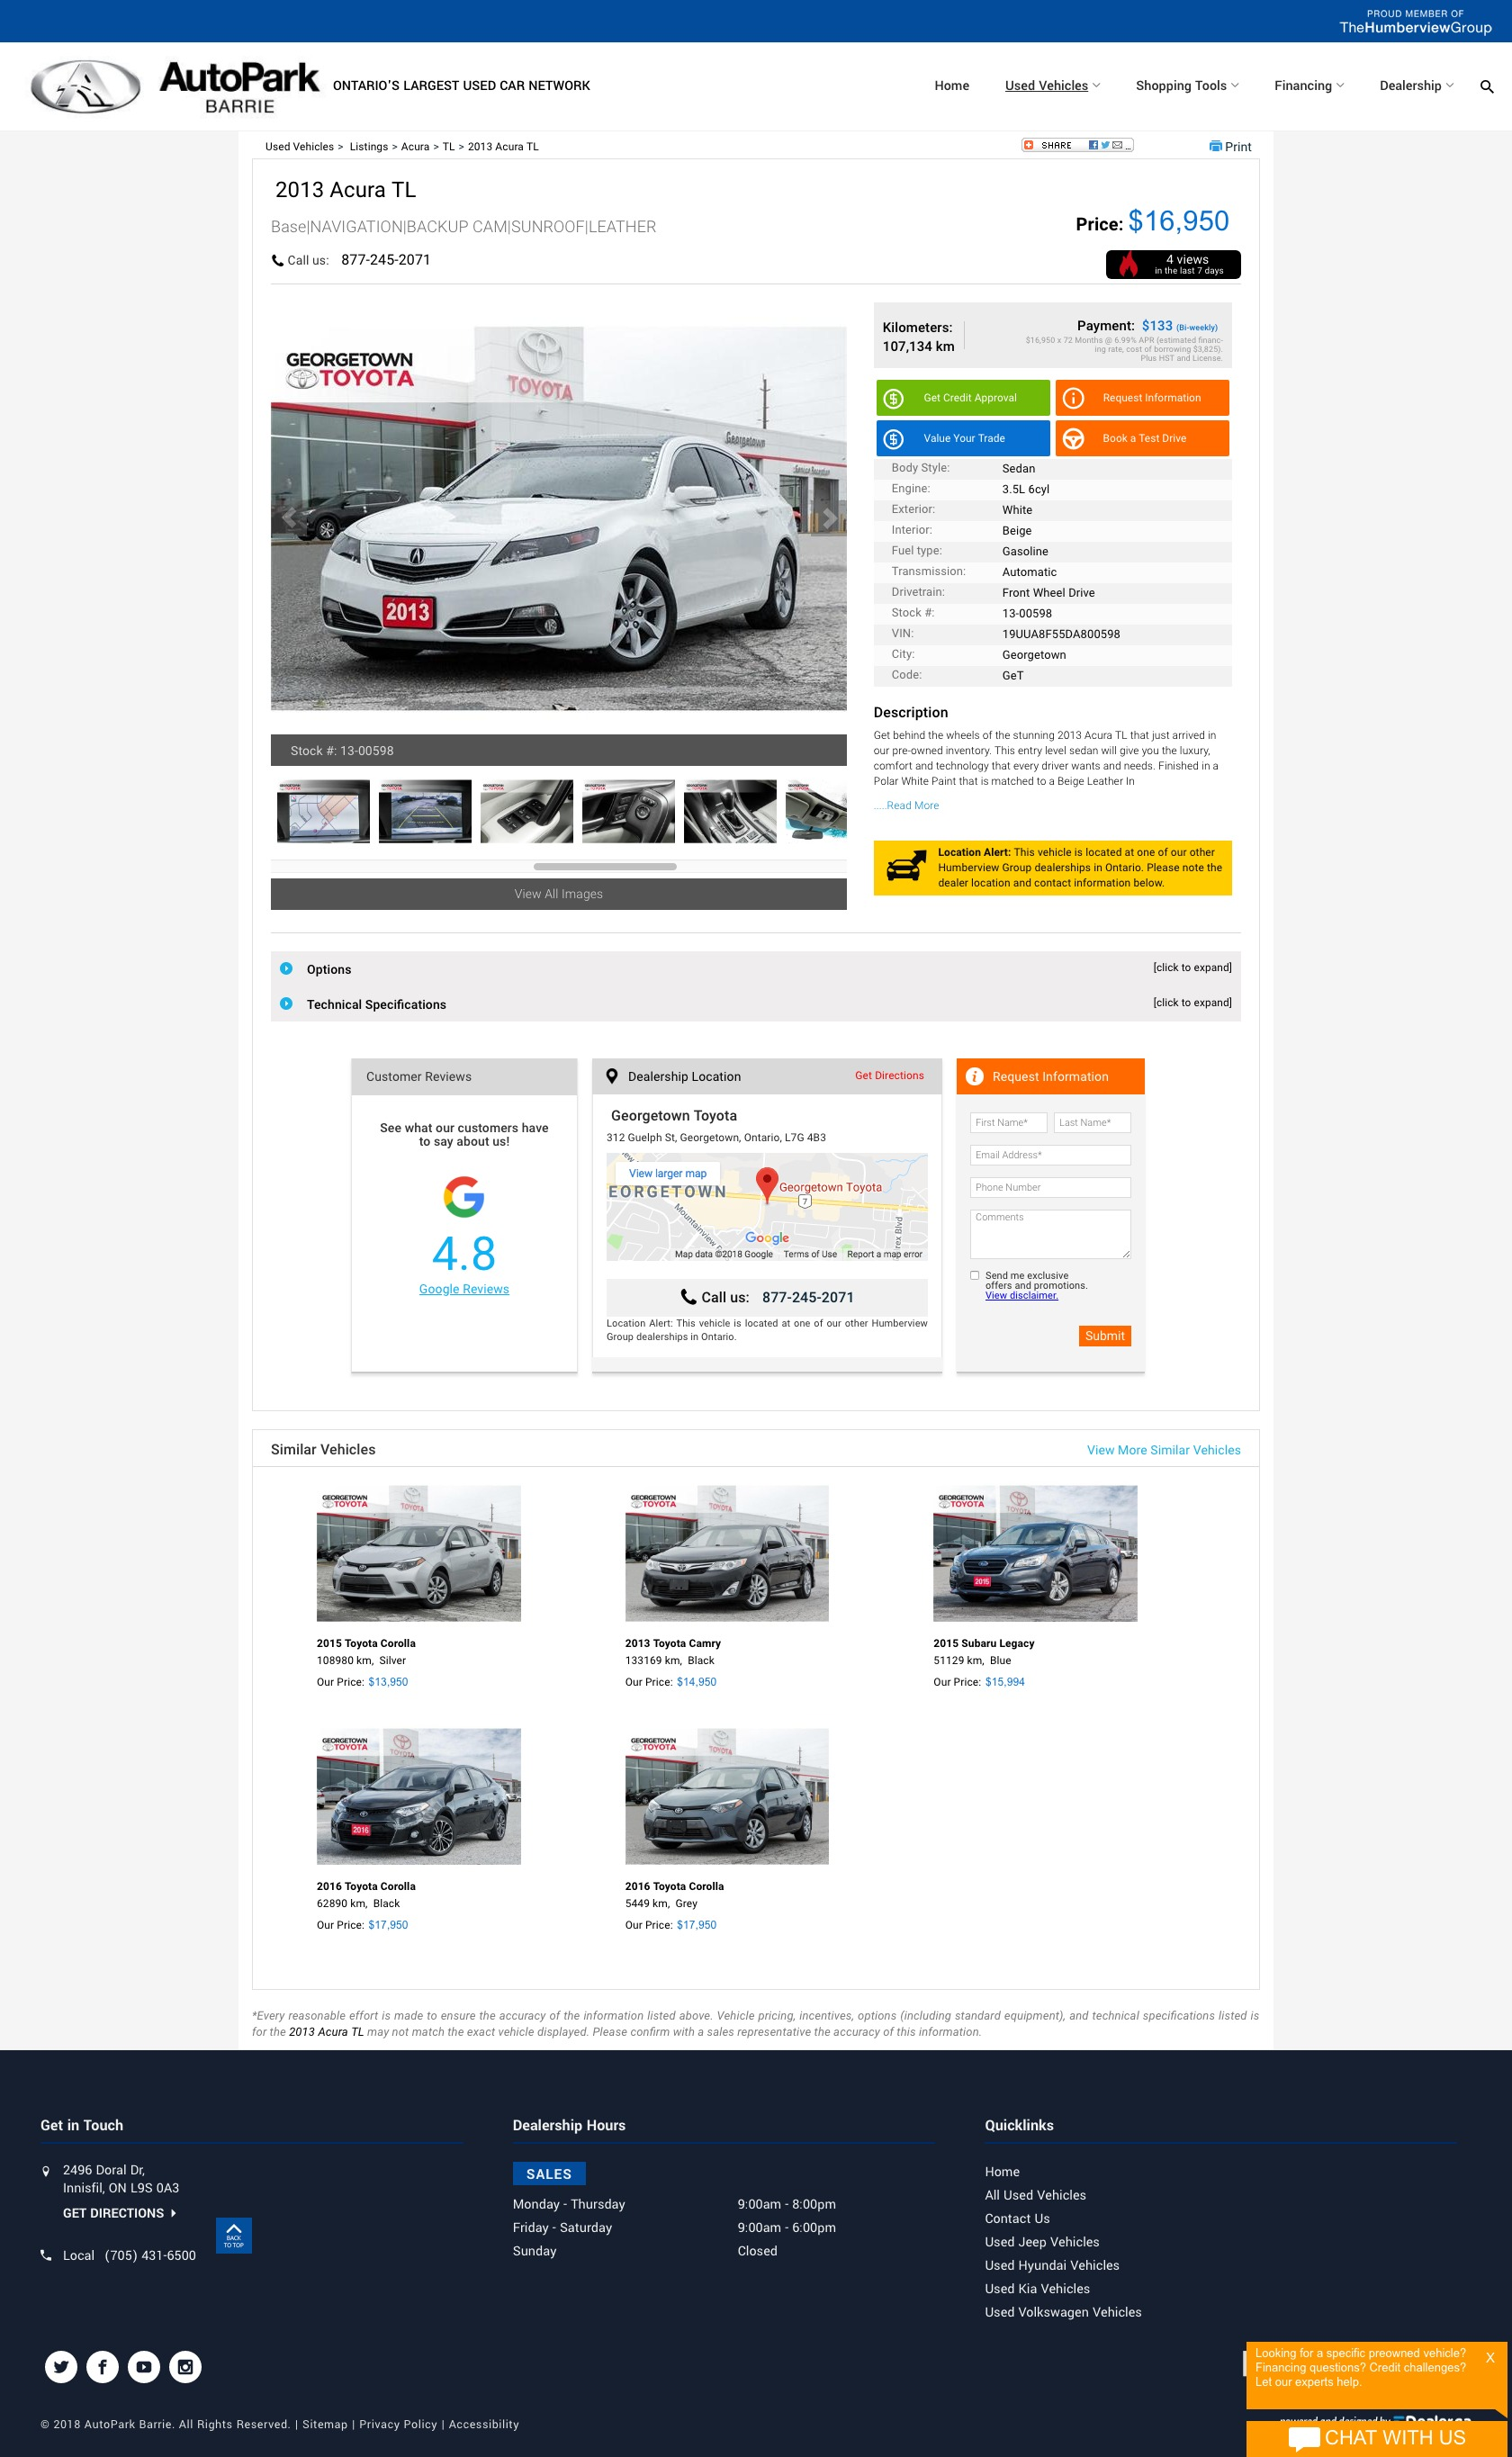car: (809, 498, 851, 539)
